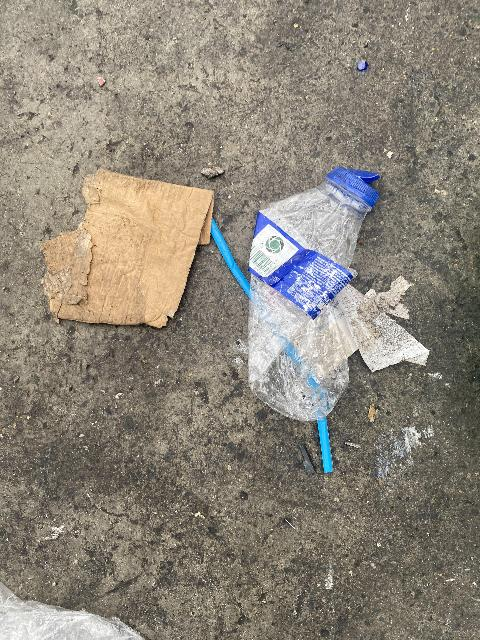Kagit: (40, 160, 224, 325)
Plastik: (244, 175, 384, 437)
